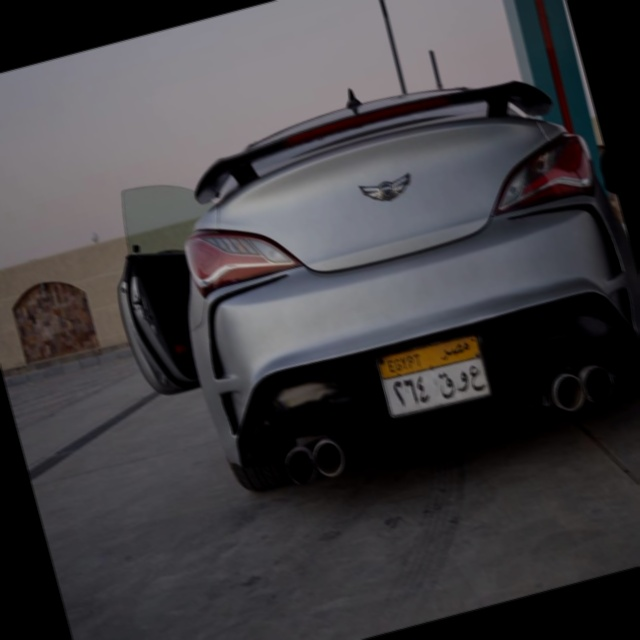License Plate: (374, 331, 496, 425)
